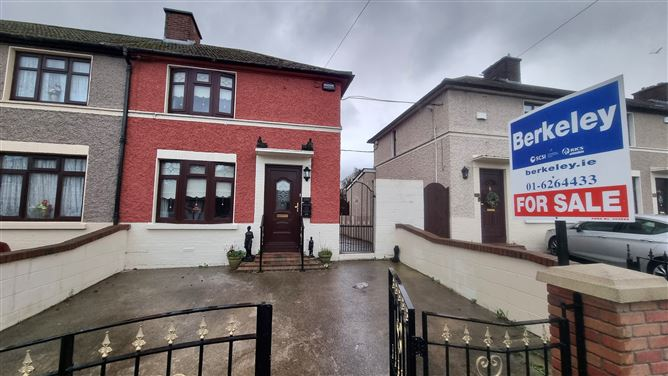property sign: (481, 65, 648, 252)
